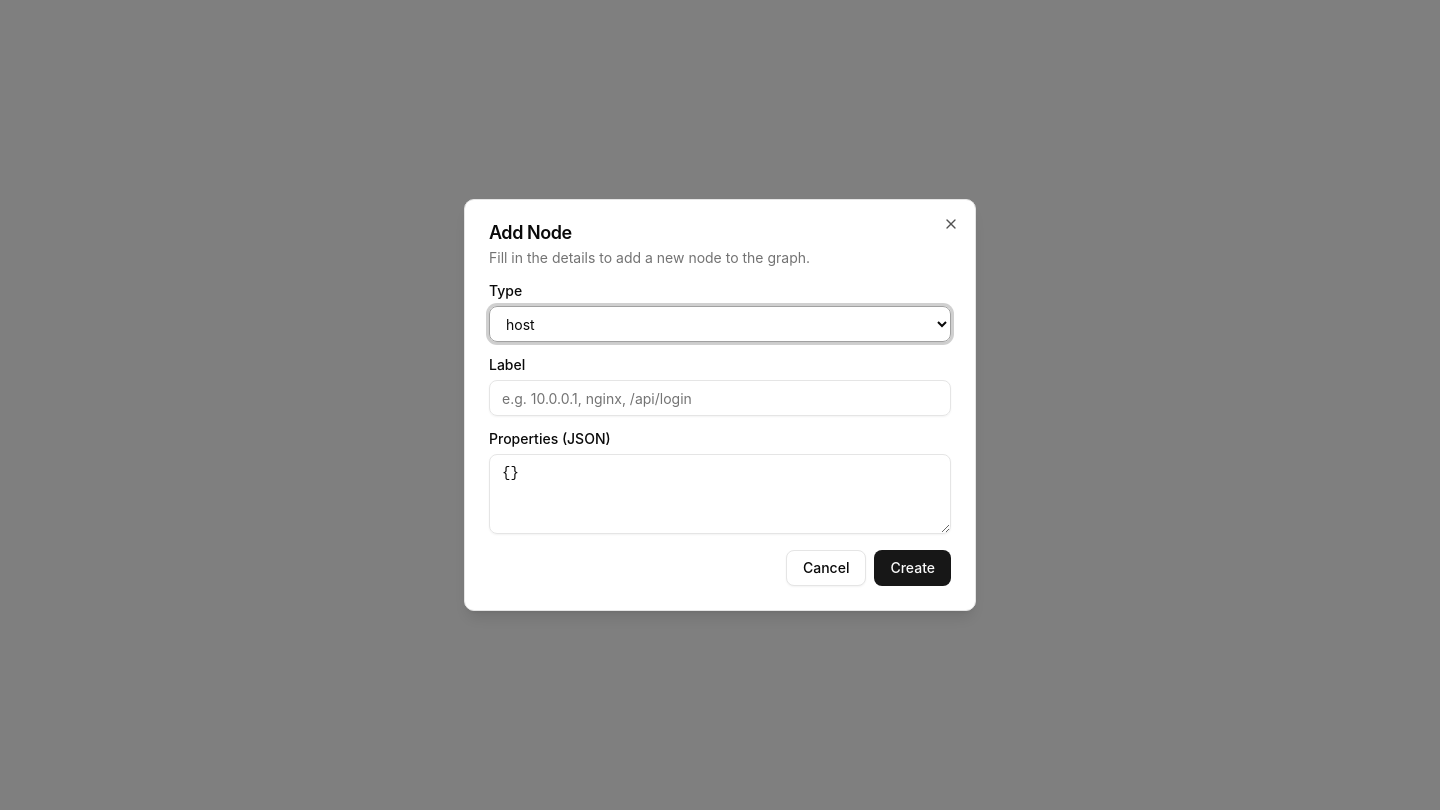
Test: NodeEditDialog › create mode (no node prop) › shows inline error when properties JSON is a non-object (array)
// fireEvent.change because '[' is also a special char in userEvent.type
Replace the text in the text box labelled "Properties (JSON)" with "[1, 2]" at (720, 494), box [489,454,951,534]
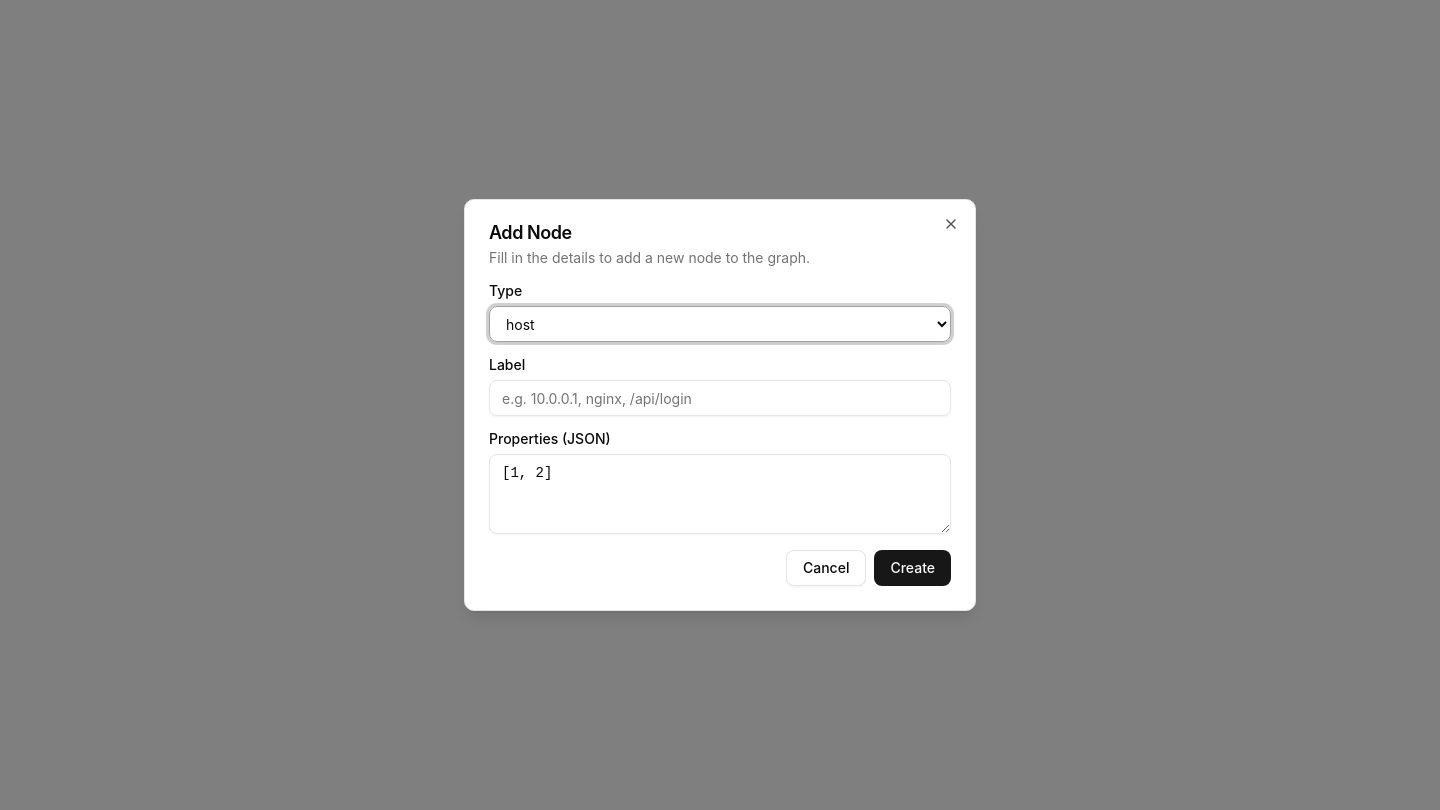
Type "host-1" into the field labelled "Label".
click(720, 398); type("host-1")  # box [489,380,951,416]
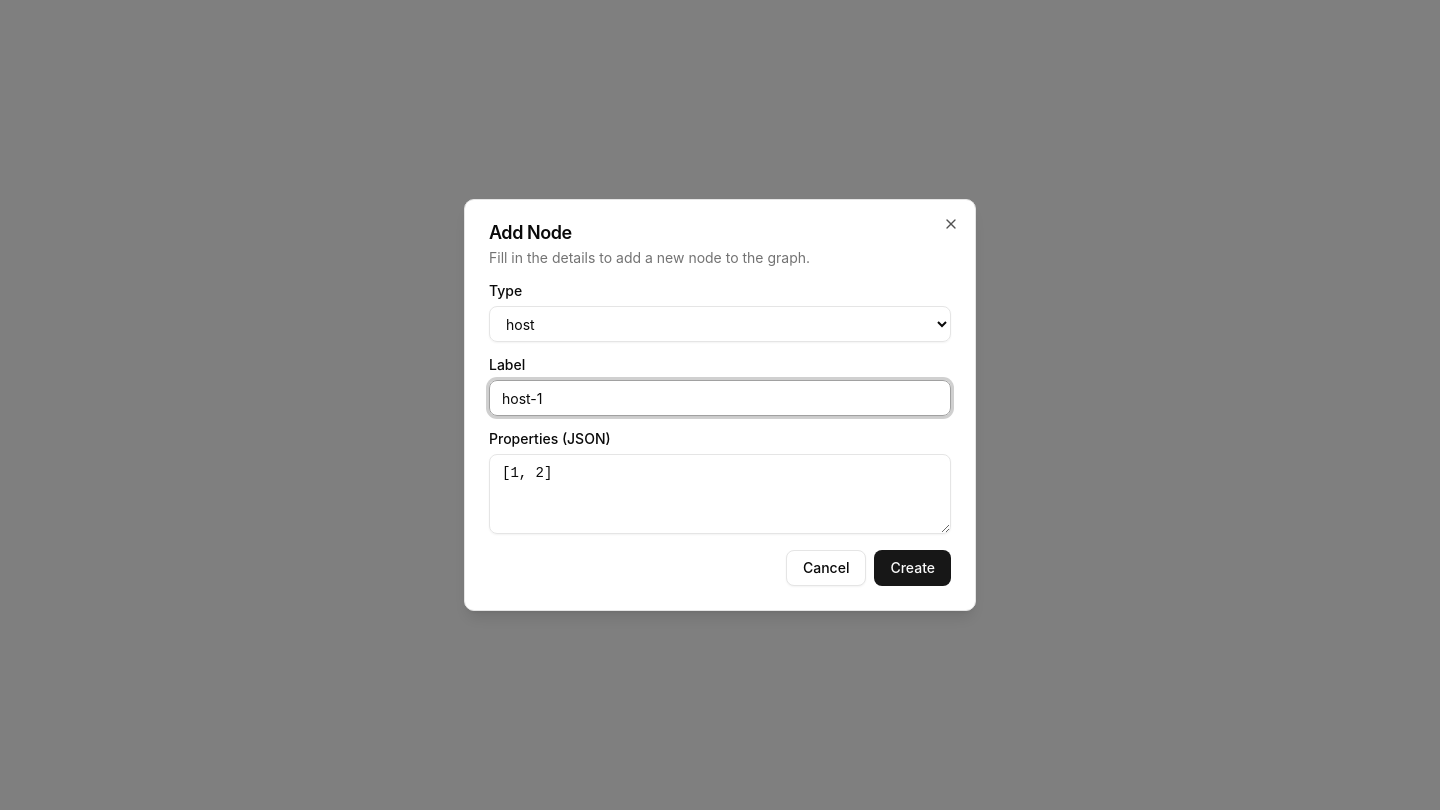
Click the button "Create".
click(913, 568)  # box [874,550,951,586]
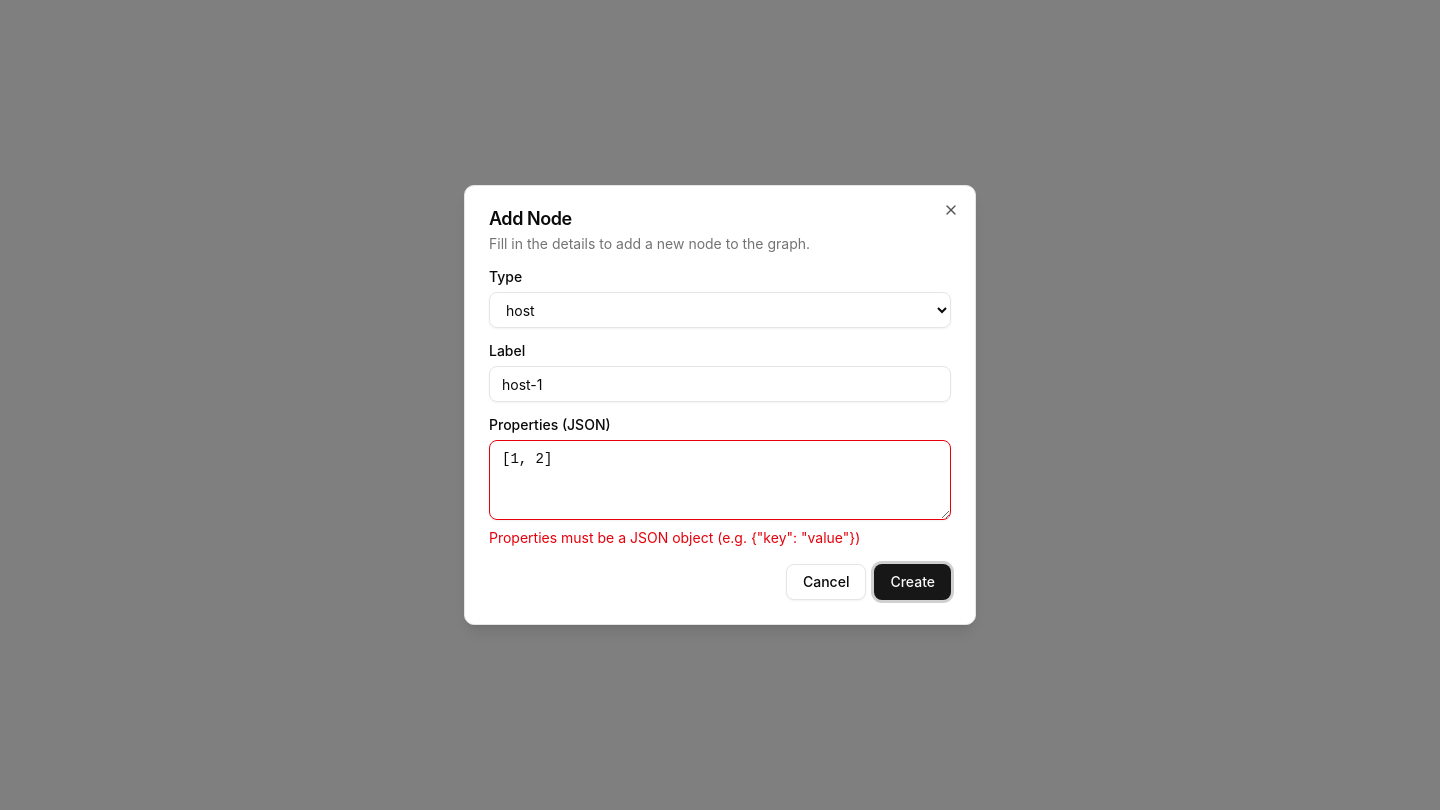
Expected: the message shows "Properties must be a JSON object", [489,529,860,546]
